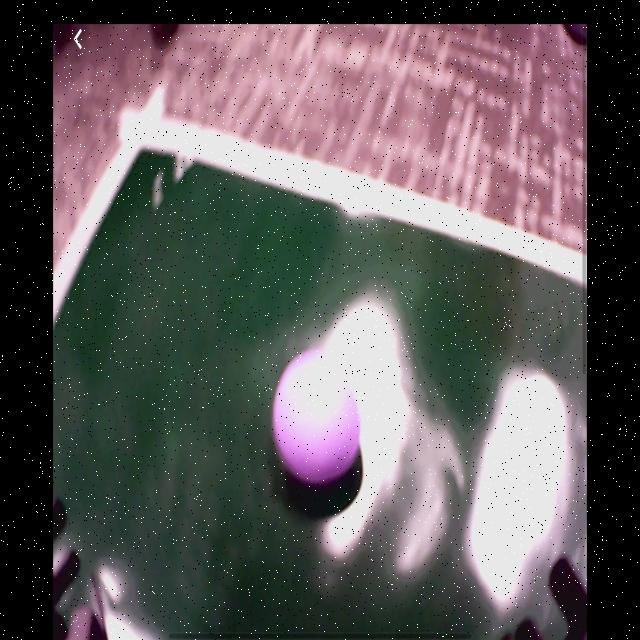ball: (272, 357, 362, 484)
